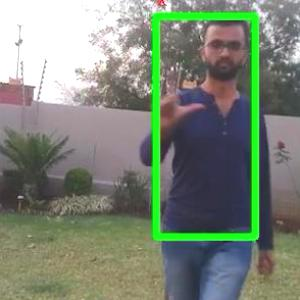land_hand: (142, 63, 205, 128)
